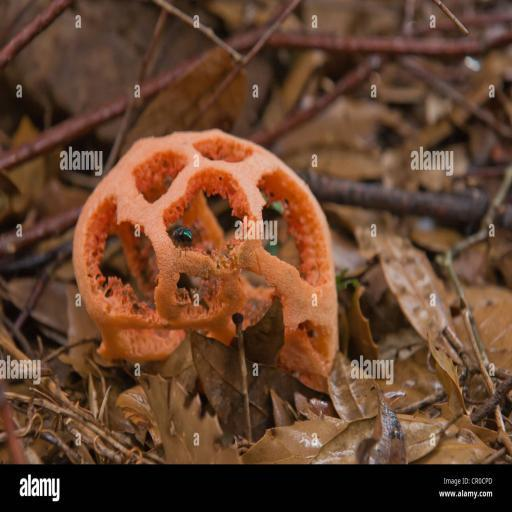mushroom: (72, 127, 353, 376)
